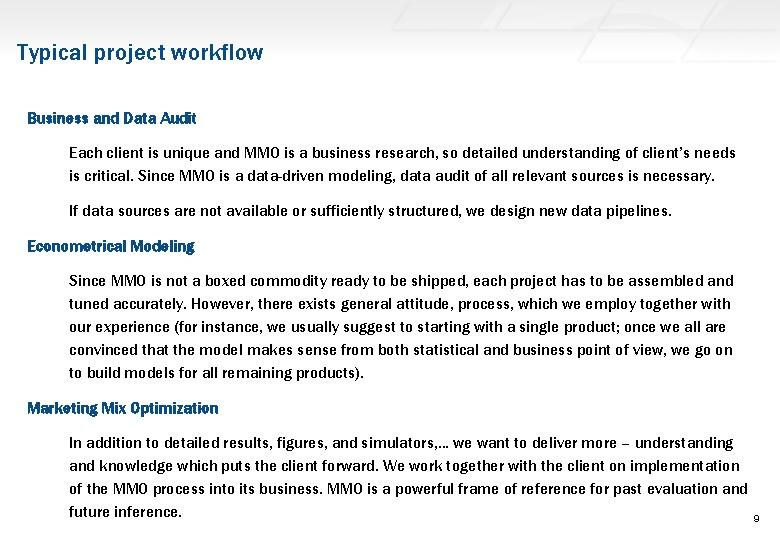paragraph: (65, 261, 757, 388), (62, 425, 751, 535), (57, 136, 752, 232)
subtitle: (20, 390, 225, 425), (15, 227, 200, 264), (22, 103, 211, 135)
title: (16, 27, 282, 81)
